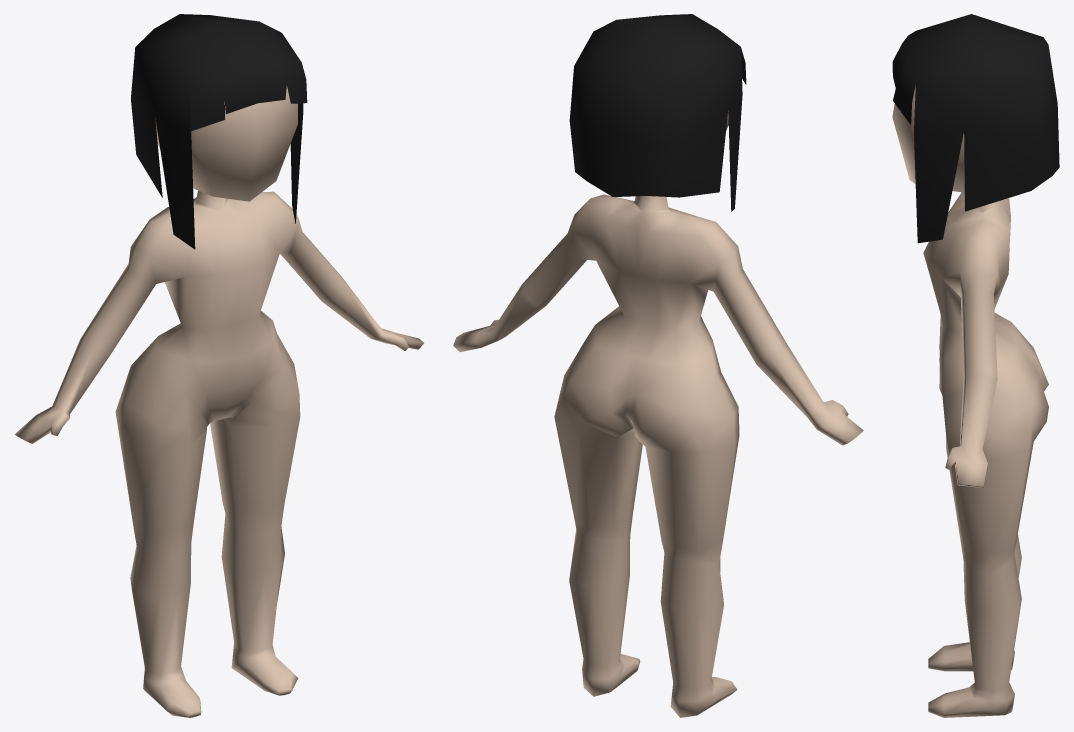
Rendered from cutie.dae.
The picture shows the model from 3 angles, left to right: view 1: azimuth 30°, elevation 25°; view 2: azimuth 150°, elevation 25°; view 3: azimuth 270°, elevation 25°; orthographic projection.
Visible parts, largest first — view 1: body_002, hair_002; view 2: body_002, hair_002; view 3: body_002, hair_002.
Part boxes in pixels (x1,y1,x2,y2): body_002: (14, 86, 423, 717); hair_002: (131, 14, 307, 249); body_002: (453, 111, 863, 717); hair_002: (569, 14, 746, 211); body_002: (892, 86, 1048, 717); hair_002: (892, 14, 1059, 243).
Bounding box in the file's own units: 1.43 × 0.5203 × 2.29.
